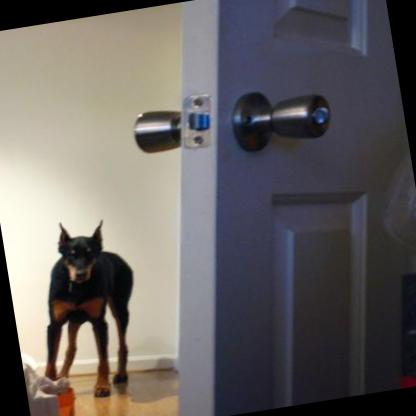Doberman: (18, 210, 148, 404)
